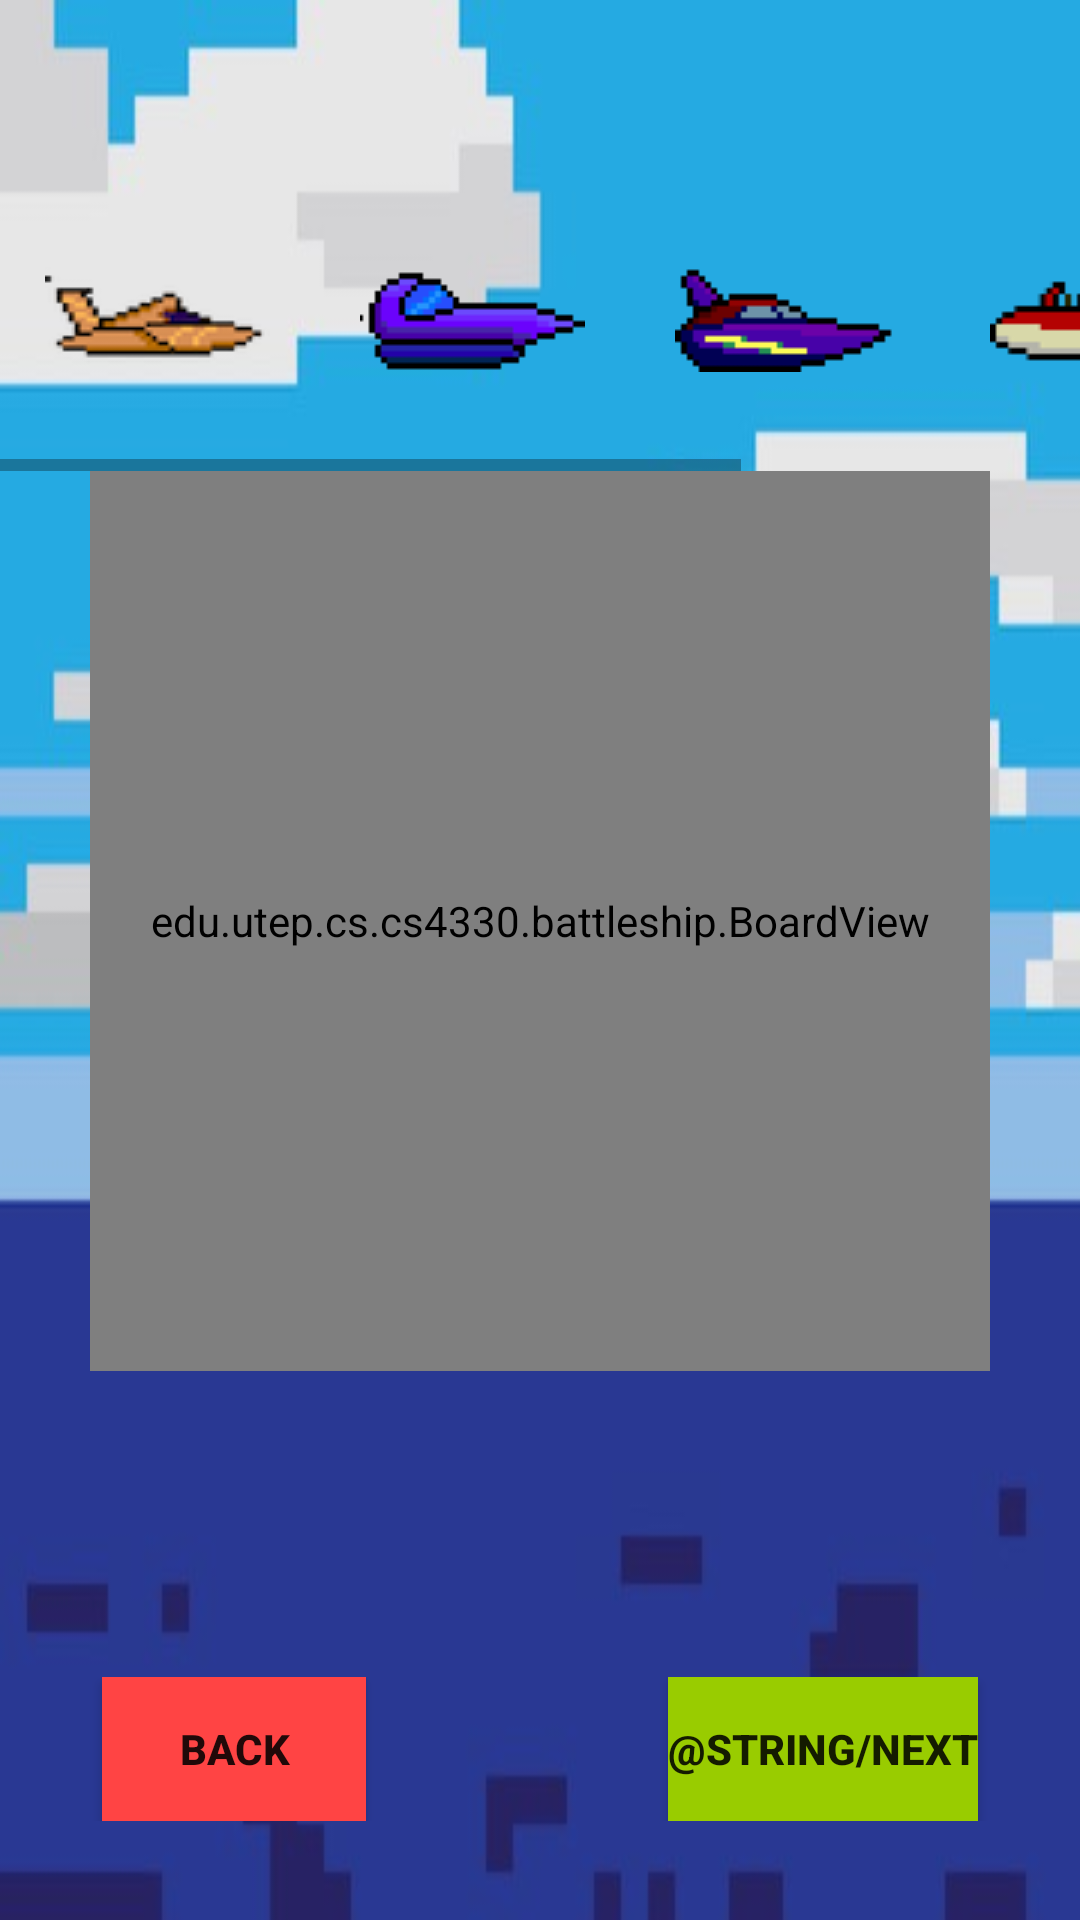

Point at icon controls on the screen. Image size 1080px x 1920px, points as (x=x, y=y).
Aircraft: (x=153, y=316)
Destroyer: (x=783, y=320)
